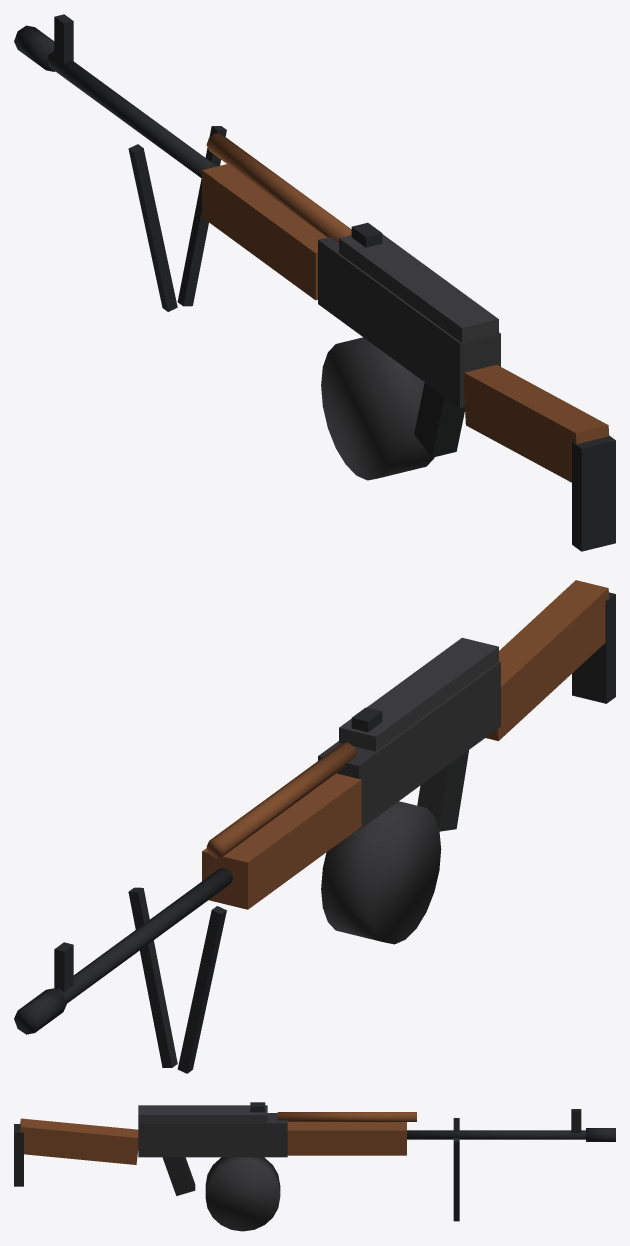
File: LMG_Red.fbx
3 views of the same model, one above another, from view 1: azimuth 30°, elevation 25°; view 2: azimuth 150°, elevation 25°; view 3: azimuth 270°, elevation 25° (orthographic). The views are drawn at different scales.
Parts seen in each view (by area): view 1: DrumMag, Receiver, Stock, Handguard, DustCover, ButtPlate, Barrel, GasTube, Bipod-1, Grip, Bipod1, MuzzleBrake (+1 smaller); view 2: DrumMag, Receiver, Handguard, Stock, DustCover, Barrel, GasTube, Bipod1, Bipod-1, ButtPlate, Grip, MuzzleBrake (+1 smaller); view 3: Receiver, DrumMag, Stock, Handguard, DustCover, Barrel, GasTube, Grip, ButtPlate, Bipod1, MuzzleBrake, FrontSight.
Part boxes in pixels (<box>): DrumMag: <box>321,337,434,480</box>; Receiver: <box>318,237,500,407</box>; Stock: <box>464,364,609,482</box>; Handguard: <box>202,164,327,300</box>; DustCover: <box>339,234,498,345</box>; ButtPlate: <box>572,436,615,551</box>; Barrel: <box>46,51,216,178</box>; GasTube: <box>206,133,351,242</box>; Bipod-1: <box>128,144,177,311</box>; Grip: <box>414,382,464,457</box>; Bipod1: <box>177,126,226,306</box>; MuzzleBrake: <box>14,25,54,71</box>; DrumMag: <box>321,801,441,944</box>; Receiver: <box>318,661,500,830</box>; Handguard: <box>202,773,361,909</box>; Stock: <box>486,580,609,740</box>; DustCover: <box>339,637,498,751</box>; Barrel: <box>57,868,232,1003</box>; GasTube: <box>206,742,356,858</box>; Bipod1: <box>128,887,177,1067</box>; Bipod-1: <box>177,906,226,1073</box>; ButtPlate: <box>572,592,615,703</box>; Grip: <box>417,750,468,831</box>; MuzzleBrake: <box>14,988,66,1034</box>; Receiver: <box>138,1113,287,1157</box>; DrumMag: <box>205,1157,280,1231</box>; Stock: <box>20,1118,138,1164</box>; Handguard: <box>287,1122,406,1155</box>; DustCover: <box>138,1105,267,1122</box>; Barrel: <box>407,1130,585,1139</box>; GasTube: <box>277,1112,416,1121</box>; Grip: <box>162,1157,195,1195</box>; ButtPlate: <box>14,1124,23,1186</box>; Bipod1: <box>453,1138,459,1221</box>; MuzzleBrake: <box>586,1128,615,1141</box>; FrontSight: <box>571,1109,581,1132</box>.
Size of the model in its own units: 11.33 by 121 by 26.75.
